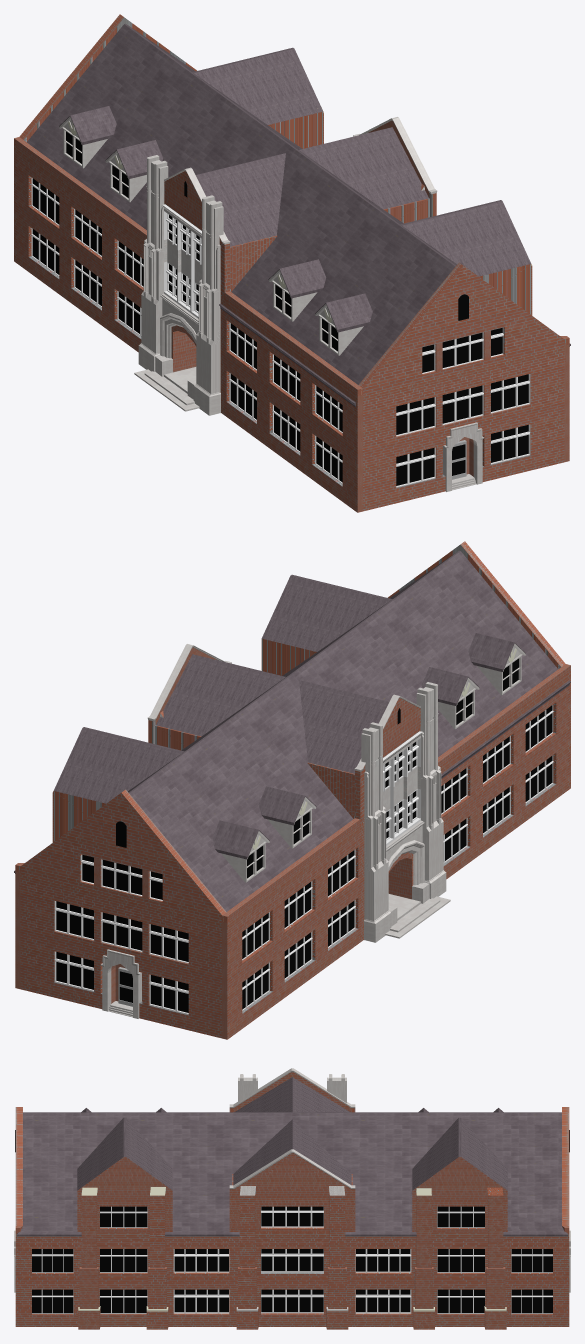
The model's file is Knoles Hall.glb.
3 renders of one model, top to bottom at view 1: azimuth 30°, elevation 25°; view 2: azimuth 150°, elevation 25°; view 3: azimuth 270°, elevation 25°, orthographic. The views are drawn at different scales.
Parts seen in each view (by area): view 1: 主体, 屋顶, 正面柱, 正面阁窗, 正面阁窗2, 正门大窗, 侧面窗, 侧面窗.001, 大门, 正面窗.003, 正面窗.002, 正面窗.005 (+9 smaller); view 2: 主体, 屋顶, 正面柱, 正面阁窗, 正面阁窗2, 正门大窗, 侧面窗, 侧面窗.001, 大门, 正面窗.003, 正面窗.002, 正面窗.005 (+9 smaller); view 3: 主体, 屋顶, 背面柱, 背面柱3, 背面柱2, 背面窗.005, 背面窗.006, 背面窗.003, 背面窗.002, 背面窗.004, 背面窗, 背面窗.001 (+4 smaller).
Part boxes in pixels (bbox=[...]): 主体: bbox=[14, 14, 569, 512]; 屋顶: bbox=[27, 23, 570, 384]; 正面柱: bbox=[138, 155, 223, 415]; 正面阁窗: bbox=[59, 106, 372, 355]; 正面阁窗2: bbox=[105, 140, 326, 321]; 正门大窗: bbox=[162, 204, 201, 318]; 侧面窗: bbox=[396, 424, 530, 487]; 侧面窗.001: bbox=[396, 374, 530, 436]; 大门: bbox=[155, 293, 198, 399]; 正面窗.003: bbox=[31, 228, 342, 483]; 正面窗.002: bbox=[74, 259, 300, 452]; 正面窗.005: bbox=[73, 208, 300, 401]; 主体: bbox=[15, 541, 570, 1039]; 屋顶: bbox=[14, 550, 557, 911]; 正面柱: bbox=[361, 682, 446, 942]; 正面阁窗: bbox=[212, 633, 525, 882]; 正面阁窗2: bbox=[258, 667, 479, 848]; 正门大窗: bbox=[383, 731, 422, 845]; 侧面窗: bbox=[54, 951, 188, 1014]; 侧面窗.001: bbox=[54, 901, 188, 963]; 大门: bbox=[386, 820, 429, 926]; 正面窗.003: bbox=[242, 755, 553, 1010]; 正面窗.002: bbox=[284, 786, 510, 979]; 正面窗.005: bbox=[284, 735, 511, 928]; 主体: bbox=[15, 1068, 569, 1326]; 屋顶: bbox=[17, 1112, 567, 1236]; 背面柱: bbox=[236, 1186, 348, 1329]; 背面柱3: bbox=[78, 1187, 506, 1329]; 背面柱2: bbox=[146, 1187, 434, 1329]; 背面窗.005: bbox=[173, 1289, 411, 1313]; 背面窗.006: bbox=[173, 1249, 411, 1272]; 背面窗.003: bbox=[100, 1289, 484, 1313]; 背面窗.002: bbox=[100, 1249, 484, 1272]; 背面窗.004: bbox=[100, 1206, 484, 1227]; 背面窗: bbox=[32, 1289, 552, 1313]; 背面窗.001: bbox=[32, 1249, 552, 1272].
Bounding box in the file's own units: 2.03 × 1.75 × 4.96.
7 materials, 3 textured.
